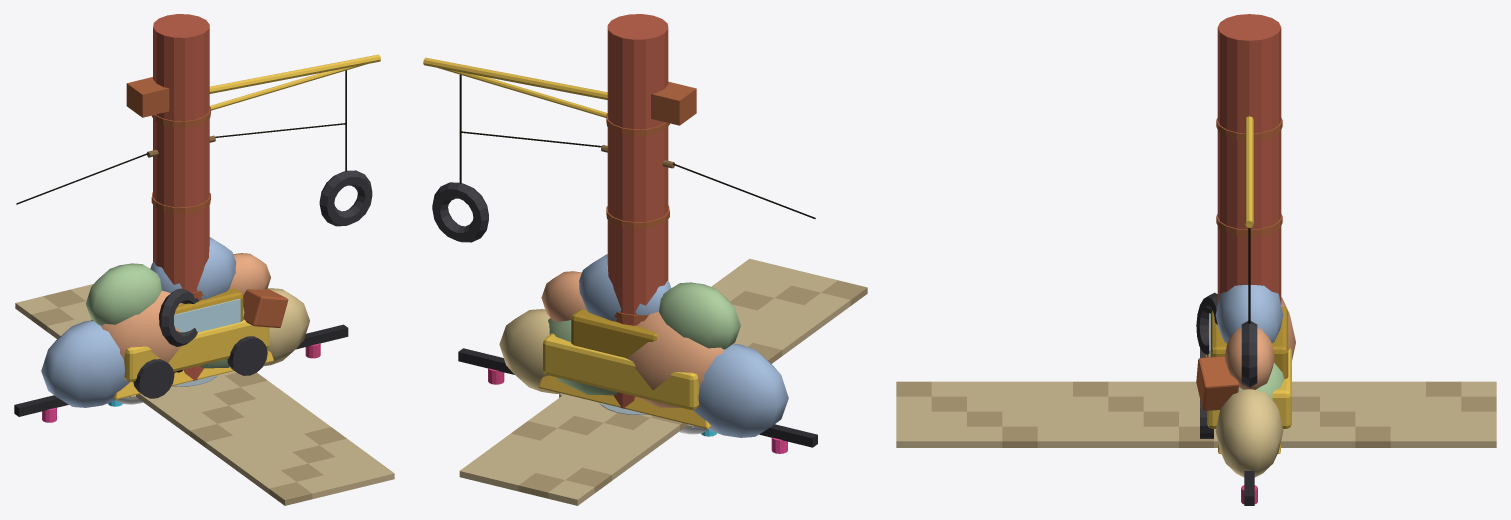
File: kit.glb
The picture shows the model from 3 angles, left to right: view 1: azimuth 30°, elevation 25°; view 2: azimuth 150°, elevation 25°; view 3: azimuth 270°, elevation 25°; orthographic projection. The views are drawn at different scales.
Visible parts, largest first — view 1: floor_junk, pile, stack, car, crane, truss, goldbar, pole; view 2: floor_junk, pile, stack, car, crane, truss, goldbar, pole; view 3: floor_junk, stack, pile, car, crane.
Part boxes in pixels (bbox=[...]): floor_junk: bbox=[15, 284, 394, 505]; pile: bbox=[41, 237, 309, 407]; stack: bbox=[151, 14, 210, 380]; car: bbox=[124, 288, 269, 398]; crane: bbox=[126, 54, 380, 226]; truss: bbox=[14, 324, 348, 422]; goldbar: bbox=[113, 351, 273, 399]; pole: bbox=[16, 123, 345, 204]; floor_junk: bbox=[459, 258, 867, 505]; pile: bbox=[499, 254, 788, 437]; stack: bbox=[606, 14, 669, 408]; car: bbox=[543, 309, 699, 409]; crane: bbox=[423, 57, 696, 242]; truss: bbox=[458, 348, 817, 453]; goldbar: bbox=[538, 375, 711, 428]; pole: bbox=[461, 131, 815, 218]; floor_junk: bbox=[896, 381, 1496, 447]; stack: bbox=[1216, 14, 1282, 304]; pile: bbox=[1196, 285, 1295, 477]; car: bbox=[1200, 306, 1291, 438]; crane: bbox=[1241, 116, 1257, 387].
Bounding box in the file's own units: 6.6 × 6.65 × 8.5.
